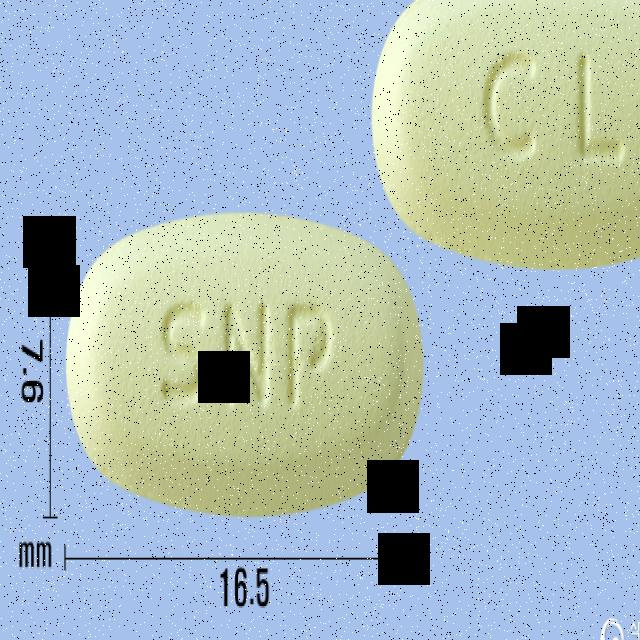A Progen Clarithromycin Tab-500mg: (64, 212, 427, 520), (370, 0, 640, 270)
